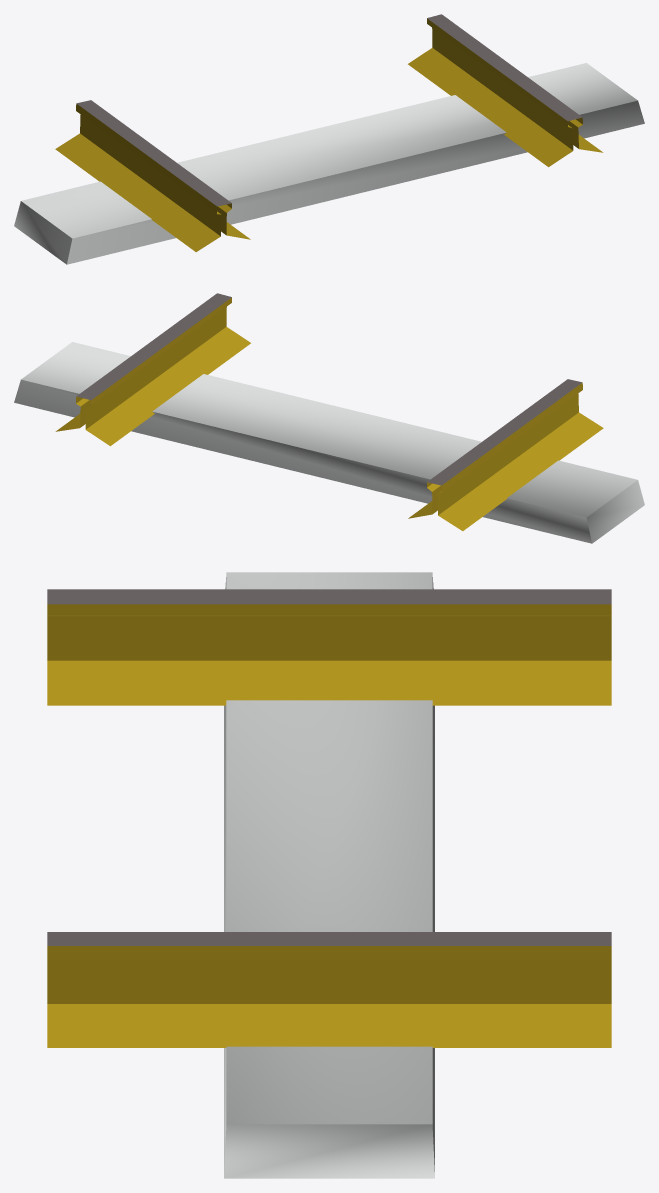
Rendered from rail.glb.
3 views of the same model, one above another, from view 1: azimuth 30°, elevation 25°; view 2: azimuth 150°, elevation 25°; view 3: azimuth 270°, elevation 25° (orthographic). The views are drawn at different scales.
Visible parts, largest first — view 1: Plane.001 / Wood, Plane.001 / Steel-Brown, Plane.001 / Steel-Shiny; view 2: Plane.001 / Wood, Plane.001 / Steel-Brown, Plane.001 / Steel-Shiny; view 3: Plane.001 / Steel-Brown, Plane.001 / Wood, Plane.001 / Steel-Shiny.
Part boxes in pixels (x1,y1,x2,y2): Plane.001 / Wood: (14, 63, 644, 264); Plane.001 / Steel-Brown: (55, 18, 603, 251); Plane.001 / Steel-Shiny: (76, 14, 582, 206); Plane.001 / Wood: (14, 342, 644, 543); Plane.001 / Steel-Brown: (55, 297, 603, 530); Plane.001 / Steel-Shiny: (76, 293, 582, 485); Plane.001 / Steel-Brown: (47, 604, 611, 1047); Plane.001 / Wood: (224, 572, 434, 1178); Plane.001 / Steel-Shiny: (47, 589, 611, 945).
Bounding box in the file's own units: 2.37 × 0.2525 × 1.
